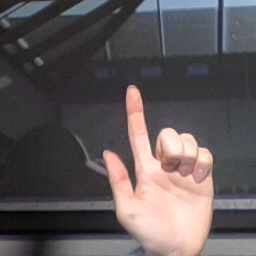F: (101, 83, 219, 251)
